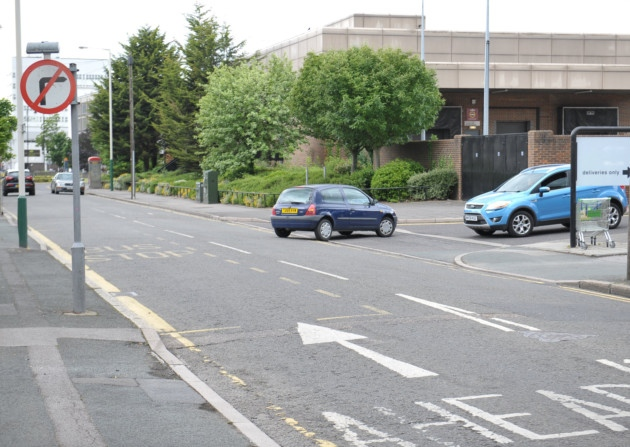No_right_turn: (19, 60, 76, 114)
